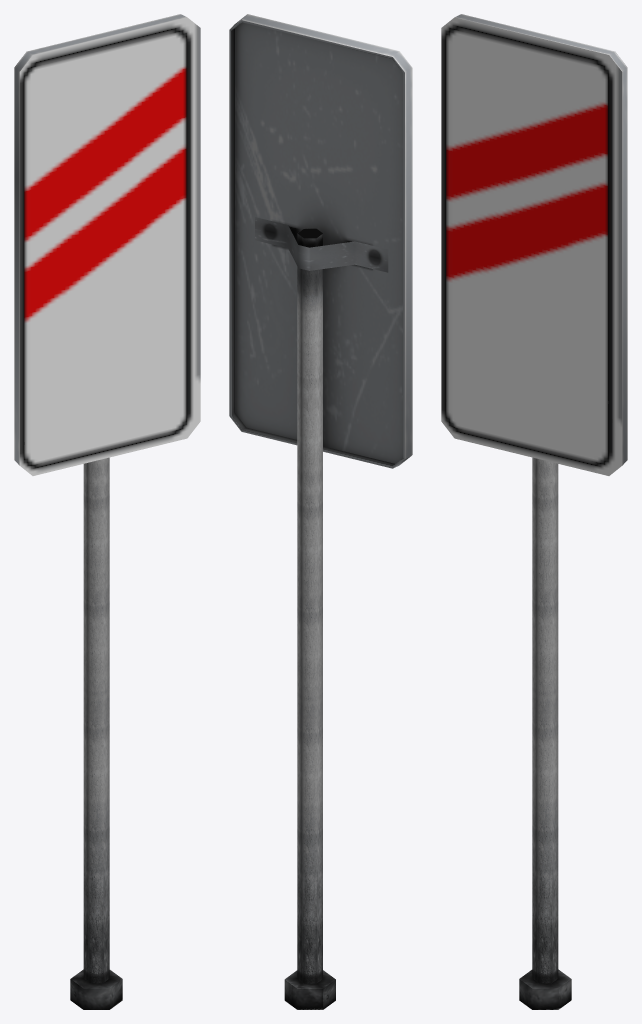
File: ROD0310051.FBX
The picture shows the model from 3 angles, left to right: view 1: azimuth 30°, elevation 25°; view 2: azimuth 150°, elevation 25°; view 3: azimuth 330°, elevation 25°; orthographic projection.
Parts seen in each view (by area): view 1: smROD0310051; view 2: smROD0310051; view 3: smROD0310051.
Boxes of the visible parts, box(x1,y1,x2,y2) form: smROD0310051: box(14, 14, 200, 1009); smROD0310051: box(229, 14, 412, 1009); smROD0310051: box(441, 14, 627, 1009).
Bounding box in the file's own units: 0.395 × 2.03 × 0.1004.
Materials: 1 (1 with a texture image).
